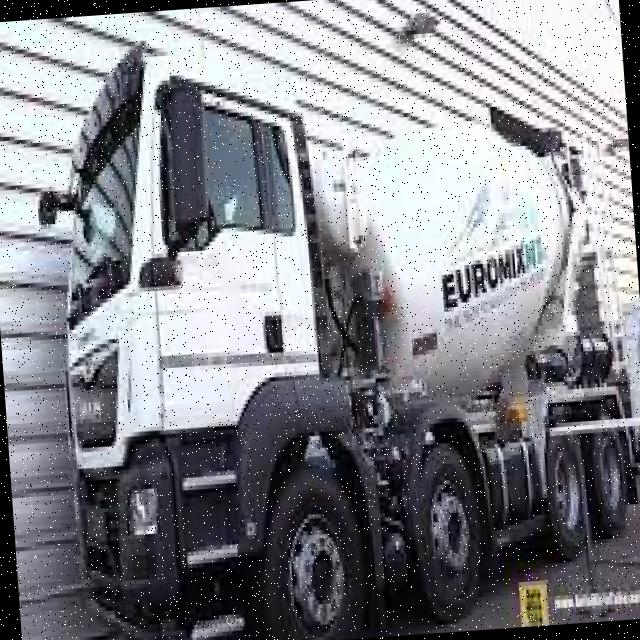Mixer Truck: (26, 3, 640, 640)
